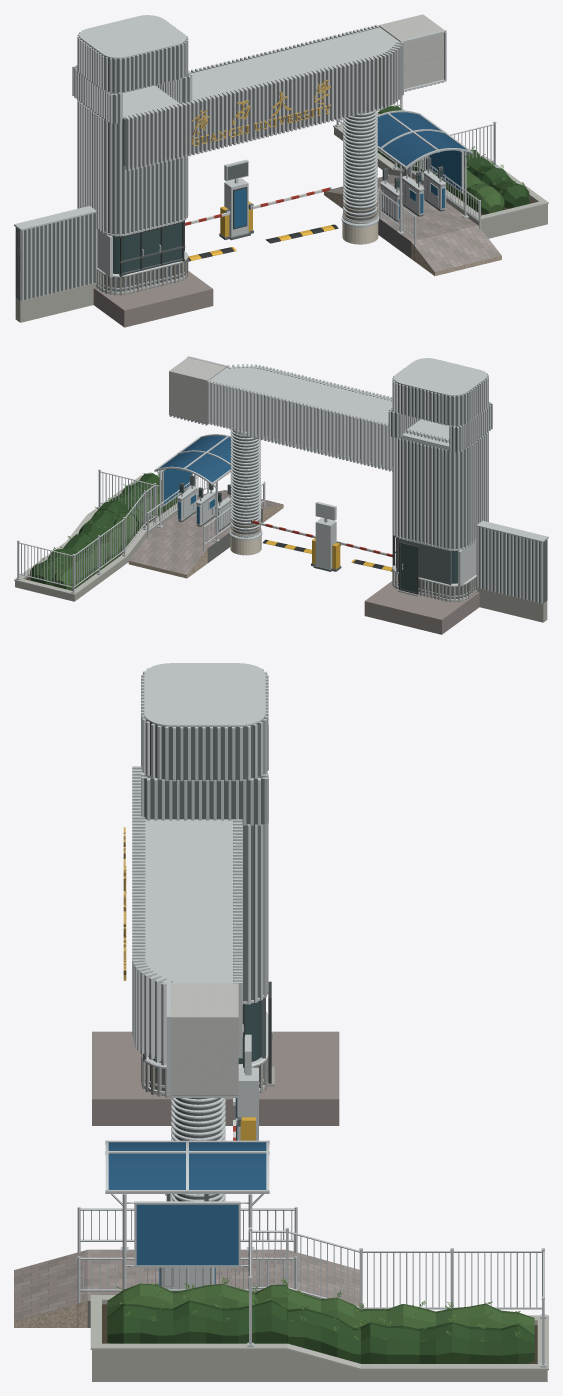
File: new-east-gate.glb
3 renders of one model, top to bottom at view 1: azimuth 30°, elevation 25°; view 2: azimuth 150°, elevation 25°; view 3: azimuth 270°, elevation 25°, orthographic. The views are drawn at different scales.
Parts seen in each view (by area): view 1: landmark-new-east-gate; view 2: landmark-new-east-gate; view 3: landmark-new-east-gate.
Boxes of the visible parts, <box> form: landmark-new-east-gate: <box>14,14,548,327</box>; landmark-new-east-gate: <box>14,356,548,634</box>; landmark-new-east-gate: <box>14,663,548,1381</box>.
Bounding box in the file's own units: 20.75 × 10.12 × 12.33.
27 materials, 2 textured.
